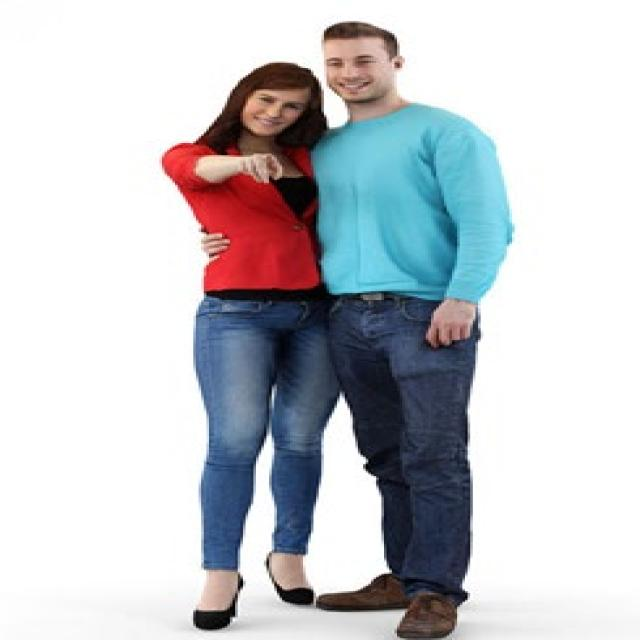standing: (310, 19, 514, 640), (160, 56, 324, 631)
